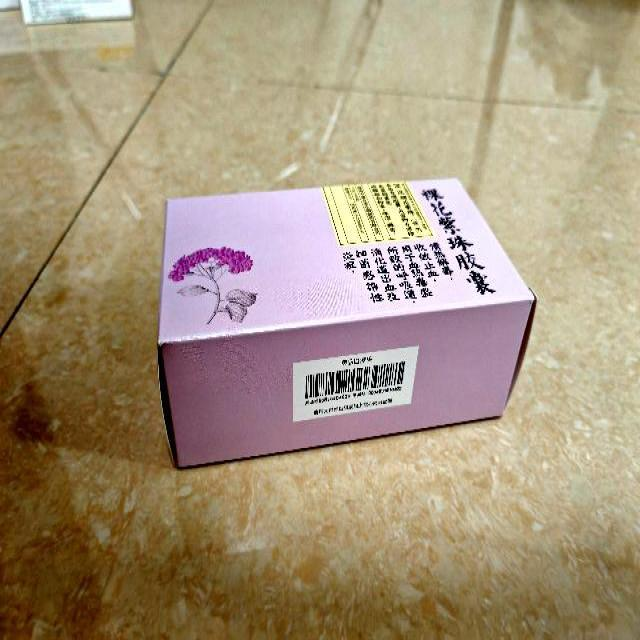box: (157, 175, 535, 470)
